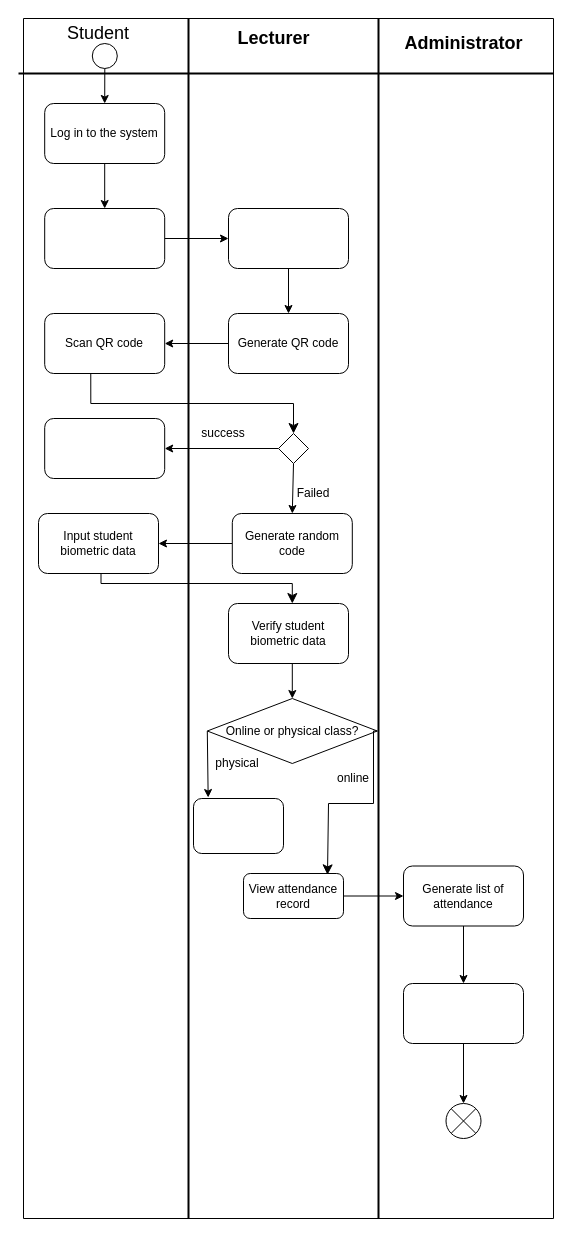
This 571x1236 diagram has some shape labels left out. Here are the shapes that lost their labels. From the top down, the centre of each, then its label:
the point at 104,238: Access to camera and location
the point at 288,238: Manage date, time and location
the point at 104,448: View attendance status
the point at 238,826: Verify student location
the point at 463,1013: Create report and make analysis
